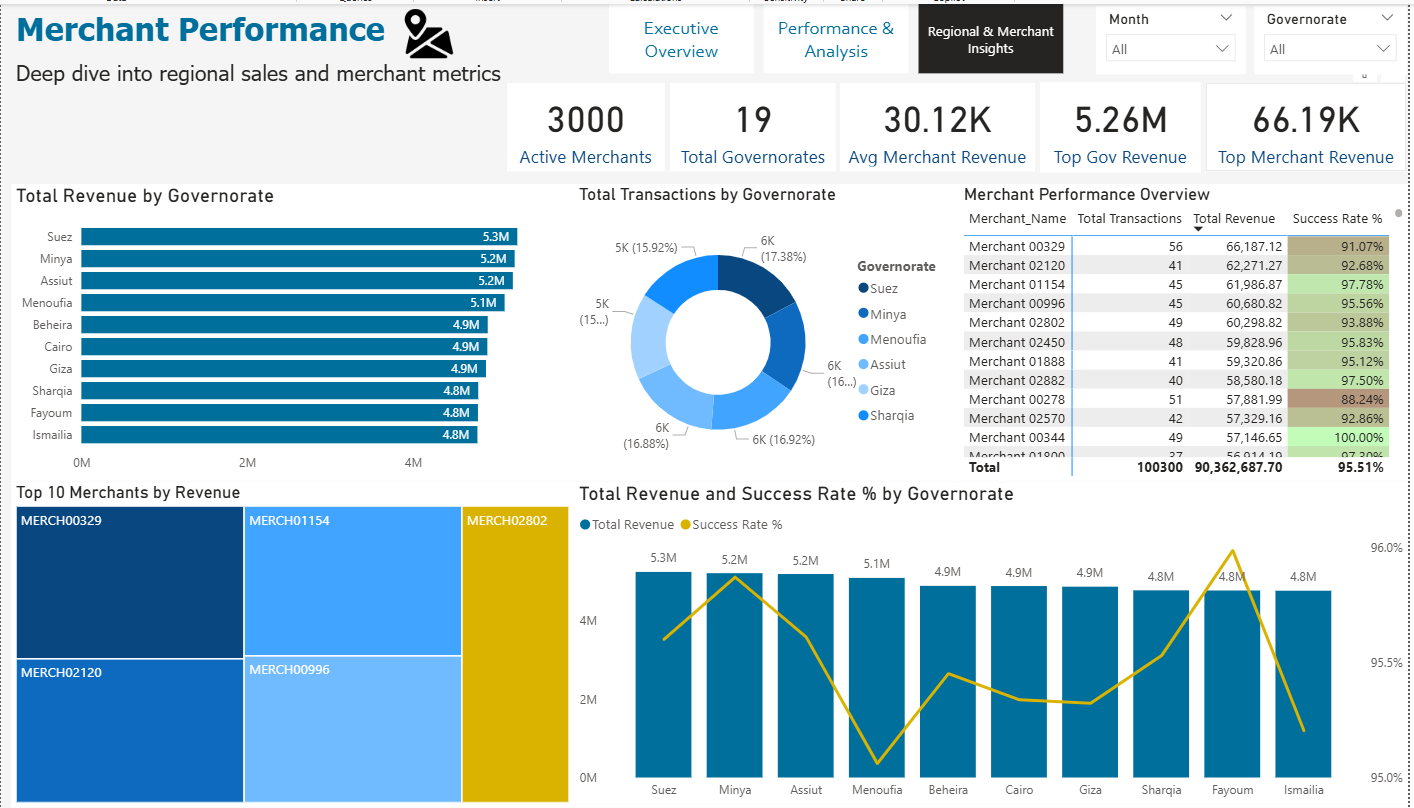

Layout of this report page (visuals, bound fields, positions):
{"tool":"powerbi","page":{"name":" Regional & Merchant Insights","canvas":[1400,800],"ordinal":2},"visuals":[{"type":"textbox","box":[10,0,397,50.7],"z":0},{"type":"textbox","box":[10,50.7,514.4,38.8],"z":1000},{"type":"image","box":[358.2,0,134.3,58.7],"z":2000},{"type":"card","fields":{"Values":["Transactions.Active Merchants"]},"box":[503.5,78.4,156.8,87.7],"z":3000},{"type":"card","fields":{"Values":["Merchants.Total Governorates"]},"box":[665.4,78.4,165.1,87.7],"z":4000},{"type":"card","fields":{"Values":["Merchants.Avg Revenue per Merchant"]},"box":[834.6,78.4,194,87.7],"z":5000},{"type":"card","fields":{"Values":["Merchants.Top Governorate Revenue"]},"box":[1033.8,77.4,159.9,89.8],"z":6000},{"type":"card","fields":{"Values":["Merchants.Top Merchant Revenue"]},"box":[1198.8,78.4,199.1,87.7],"z":7000},{"type":"clusteredBarChart","fields":{"Category":["Merchants.Governorate"],"Y":["Transactions.Total Revenue"]},"box":[10.3,179.5,560.2,296.1],"z":8000},{"type":"treemap","title":"Top 10 Merchants by Revenue","fields":{"Values":["Transactions.Total Revenue"],"Group":["Merchants.Merchant_ID"]},"box":[10.3,475.6,560.2,323.9],"z":9000},{"type":"lineClusteredColumnComboChart","fields":{"Category":["Merchants.Governorate"],"Y":["Transactions.Total Revenue"],"Y2":["Transactions.Success Rate %"]},"box":[570.1,475.6,829.9,324.4],"z":10000},{"type":"donutChart","fields":{"Category":["Merchants.Governorate"],"Y":["Transactions.Total Transactions"]},"box":[570.5,179.5,382.8,296.1],"z":11000},{"type":"pivotTable","title":"Merchant Performance Overview","fields":{"Values":["Transactions.Total Transactions","Transactions.Total Revenue","Transactions.Success Rate %"],"Rows":["Merchants.Merchant_Name"]},"box":[953.3,179.5,446.7,296.1],"z":12000},{"type":"pageNavigator","box":[605,0,454.7,69.7],"z":13000},{"type":"slicer","fields":{"Values":["Merchants.Governorate"]},"box":[1246.3,2.1,151.7,68.1],"z":14000},{"type":"slicer","fields":{"Values":["Merchants.Registration_Date.Variation.Date Hierarchy.Month"]},"box":[1089.5,2.1,148.6,68.1],"z":15000}]}

Visuals, with their boxes on the page's 1400x800 design canvas (x1, y1, x2, y2). These are canvas units, not pixel positions in the 1414x808 screenshot, which may show the page scaled, cropped or inside an application window:
textbox: 10/0/407/51
textbox: 10/51/524/90
image: 358/0/492/59
card - Transactions.Active Merchants: 504/78/660/166
card - Merchants.Total Governorates: 665/78/830/166
card - Merchants.Avg Revenue per Merchant: 835/78/1029/166
card - Merchants.Top Governorate Revenue: 1034/77/1194/167
card - Merchants.Top Merchant Revenue: 1199/78/1398/166
clusteredBarChart - Merchants.Governorate x Transactions.Total Revenue: 10/180/570/476
"Top 10 Merchants by Revenue" treemap: 10/476/570/800
lineClusteredColumnComboChart - Merchants.Governorate x Transactions.Total Revenue: 570/476/1400/800
donutChart - Merchants.Governorate x Transactions.Total Transactions: 570/180/953/476
"Merchant Performance Overview" pivotTable: 953/180/1400/476
pageNavigator: 605/0/1060/70
slicer - Merchants.Governorate: 1246/2/1398/70
slicer - Merchants.Registration_Date.Variation.Date Hierarchy.Month: 1090/2/1238/70
